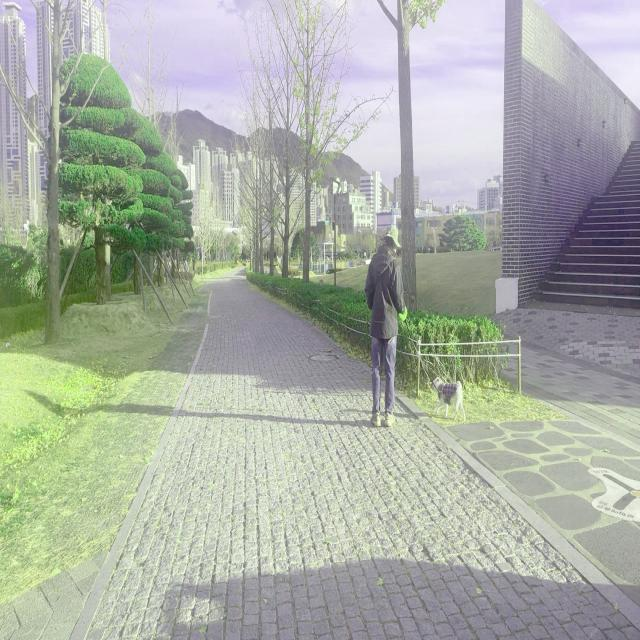Leashed_Dog: (387, 306, 466, 422)
